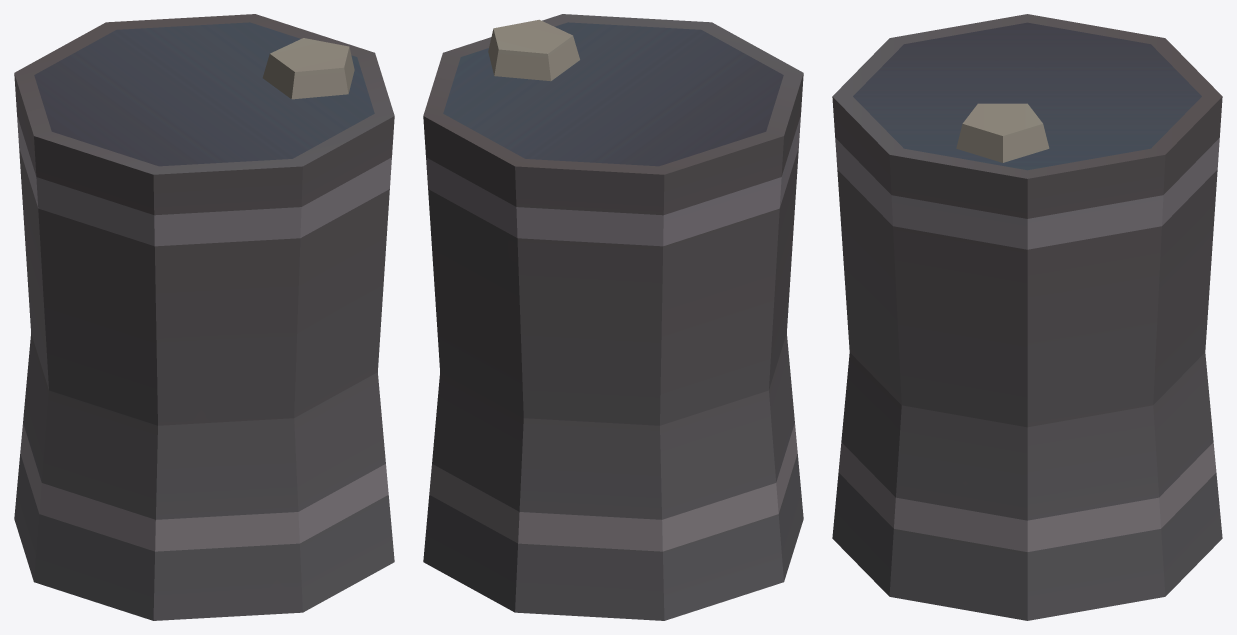
The model's file is SM_Barrel_2B.FBX.
The picture shows the model from 3 angles, left to right: view 1: azimuth 30°, elevation 25°; view 2: azimuth 150°, elevation 25°; view 3: azimuth 270°, elevation 25°; orthographic projection.
Parts seen in each view (by area): view 1: SM_Barrel_2B; view 2: SM_Barrel_2B; view 3: SM_Barrel_2B.
Boxes of the visible parts, x1,y1,x2,y2 form: SM_Barrel_2B: (14, 14, 394, 620); SM_Barrel_2B: (423, 14, 803, 620); SM_Barrel_2B: (832, 14, 1222, 620).
Size of what is drawn, in the model's own units: 82.8 by 82.8 by 109.
